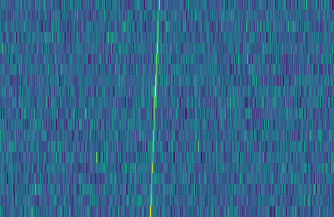signal: (146, 0, 164, 217)
